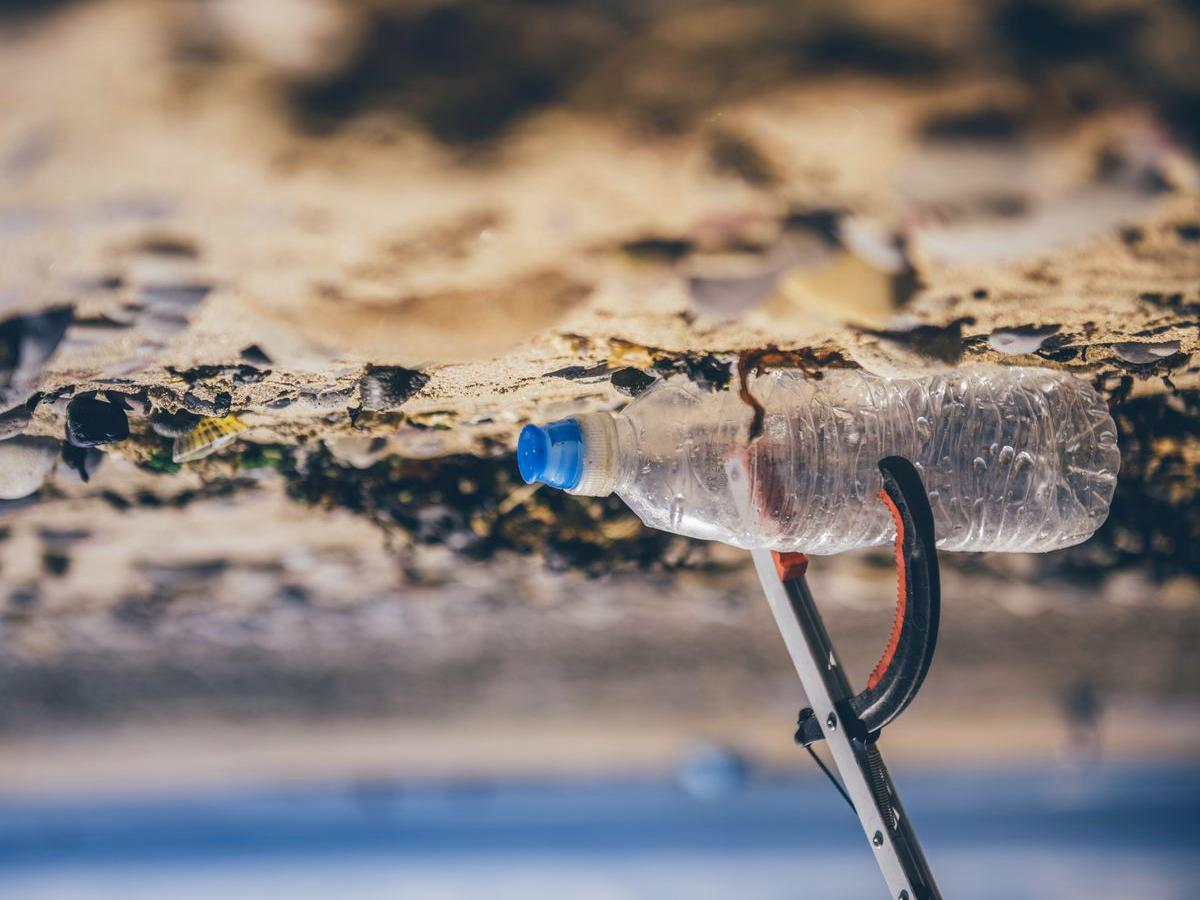Plastic: (514, 359, 1123, 553)
